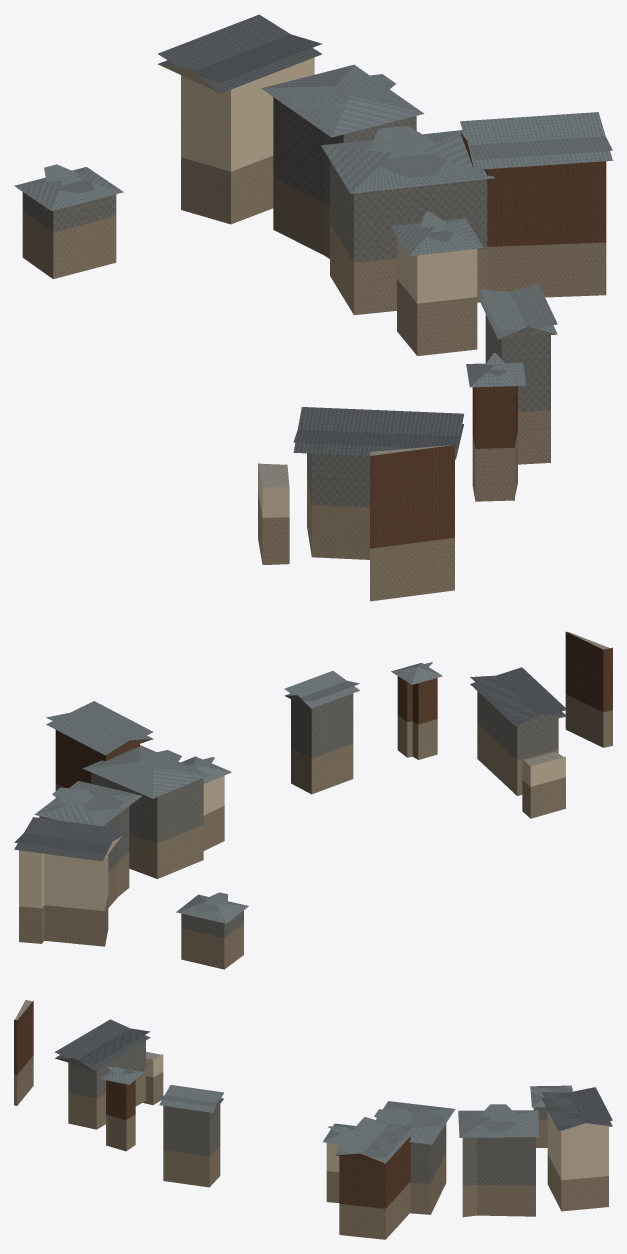
Rendered from bld_c36_-29_444.gltf.
The picture shows the model from 3 angles, top to bottom: view 1: azimuth 30°, elevation 25°; view 2: azimuth 150°, elevation 25°; view 3: azimuth 270°, elevation 25°; orthographic projection. The views are drawn at different scales.
Parts seen in each view (by area): view 1: bld_c36_-29_444; view 2: bld_c36_-29_444; view 3: bld_c36_-29_444.
Part boxes in pixels (x1,y1,x2,y2): bld_c36_-29_444: (14,14,612,601); bld_c36_-29_444: (14,631,612,969); bld_c36_-29_444: (14,1000,612,1239).
Size of the model in its own units: 56.04 by 16.38 by 89.27.
Materials: 10 (10 with a texture image).
